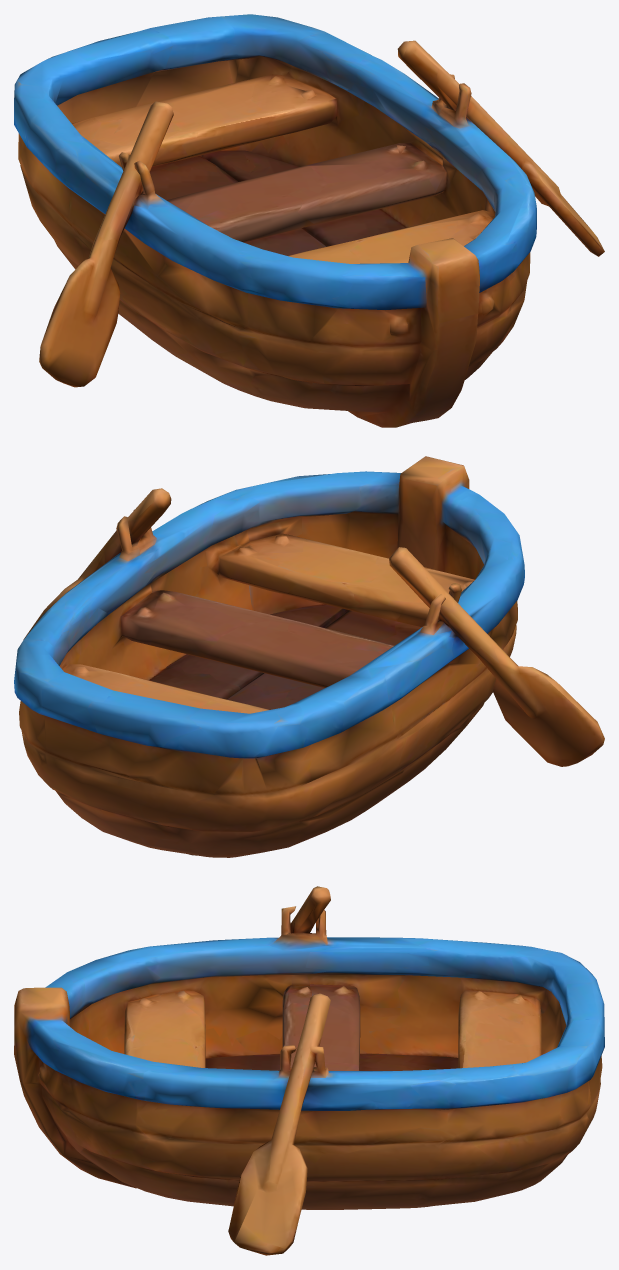
The model's file is rowing-boat.glb.
3 views of the same model, one above another, from view 1: azimuth 30°, elevation 25°; view 2: azimuth 150°, elevation 25°; view 3: azimuth 270°, elevation 25° (orthographic). The views are drawn at different scales.
Visible parts, largest first — view 1: tripo_node_c65a6afb-bc15-419d-858c-b2e0133ebb73; view 2: tripo_node_c65a6afb-bc15-419d-858c-b2e0133ebb73; view 3: tripo_node_c65a6afb-bc15-419d-858c-b2e0133ebb73.
Part boxes in pixels (x1,y1,x2,y2): tripo_node_c65a6afb-bc15-419d-858c-b2e0133ebb73: (14, 14, 604, 427); tripo_node_c65a6afb-bc15-419d-858c-b2e0133ebb73: (14, 456, 604, 857); tripo_node_c65a6afb-bc15-419d-858c-b2e0133ebb73: (14, 886, 604, 1255).
Bounding box in the file's own units: 0.9823 × 0.4584 × 0.995.
1 material, 1 textured.
